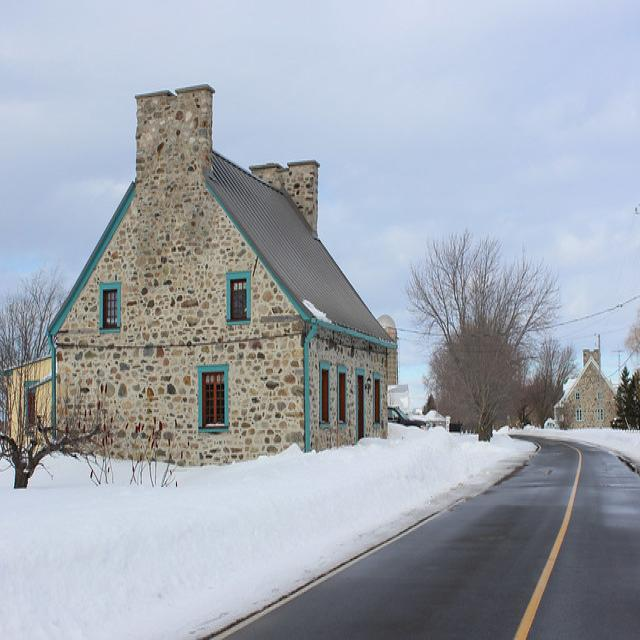building: (42, 78, 394, 468)
